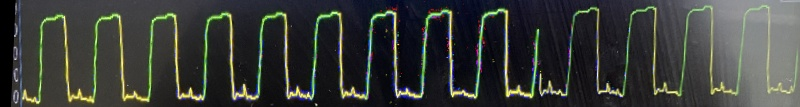hydrop_pressure: (11, 0, 528, 107), (557, 0, 800, 107)
